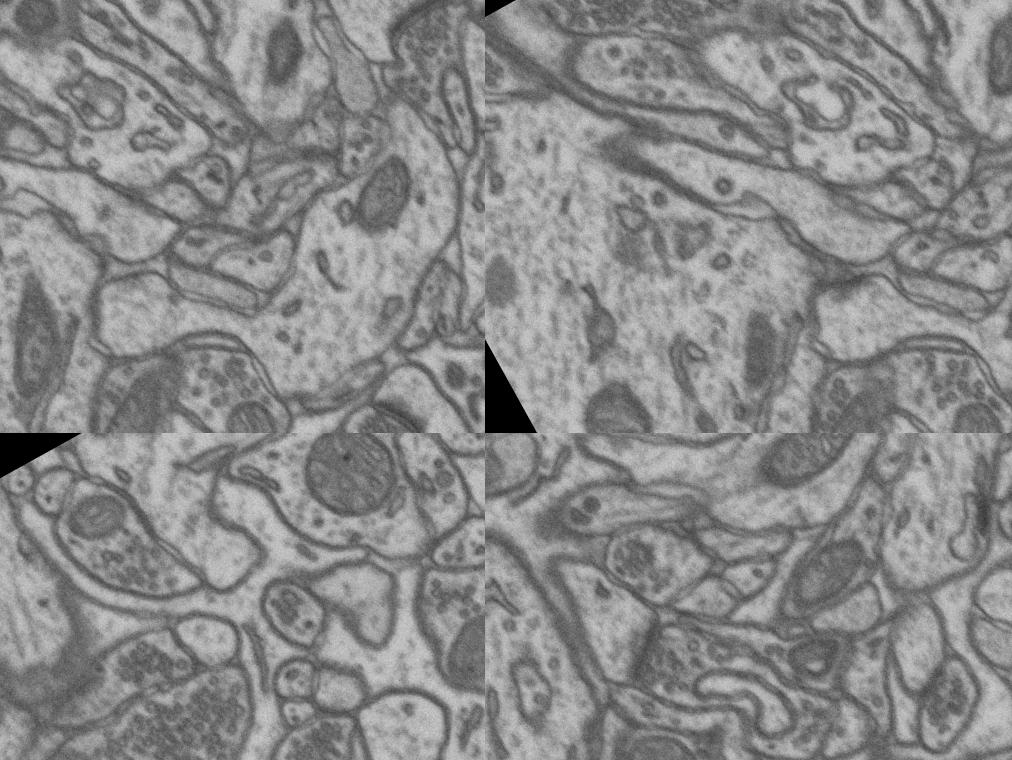mitochondria: (0, 248, 106, 412), (50, 337, 213, 433), (282, 433, 423, 542), (721, 433, 914, 503), (326, 135, 440, 249), (227, 0, 337, 110), (769, 520, 883, 621), (710, 298, 807, 402), (556, 358, 685, 433), (52, 474, 144, 560), (949, 0, 1012, 120), (784, 380, 914, 433), (425, 591, 485, 698), (774, 618, 858, 694), (598, 707, 714, 760), (205, 380, 305, 433), (929, 382, 1012, 433)
